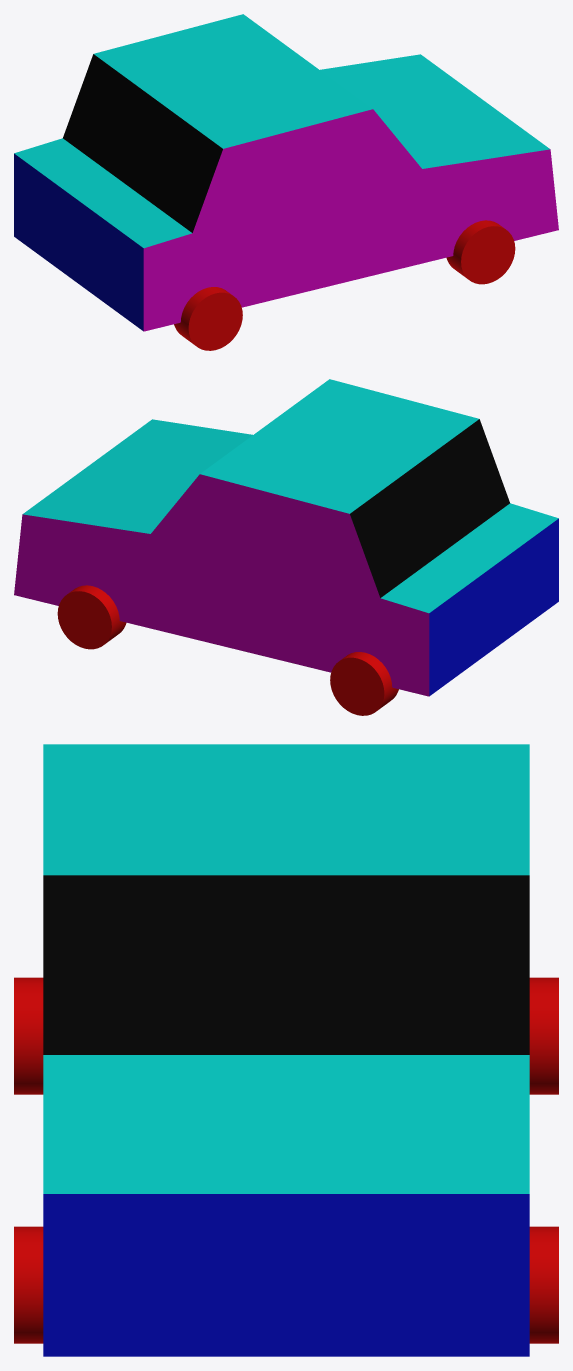
The model's file is testingmtl.obj.
3 views of the same model, one above another, from view 1: azimuth 30°, elevation 25°; view 2: azimuth 150°, elevation 25°; view 3: azimuth 270°, elevation 25° (orthographic). The views are drawn at different scales.
Parts seen in each view (by area): view 1: Cylinder.4; view 2: Cylinder.4; view 3: Cylinder.4.
Part boxes in pixels (x1,y1,x2,y2): Cylinder.4: [14, 14, 558, 350]; Cylinder.4: [14, 379, 558, 715]; Cylinder.4: [14, 744, 558, 1356].
Bounding box in the file's own units: 76.46 × 34.31 × 46.41.
